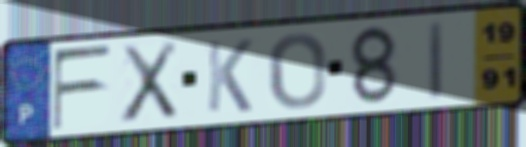8: (346, 22, 403, 109)
F: (50, 42, 115, 133)
I: (427, 17, 447, 102)
K: (204, 37, 255, 115)
O: (266, 30, 328, 112)
X: (118, 38, 181, 127)
